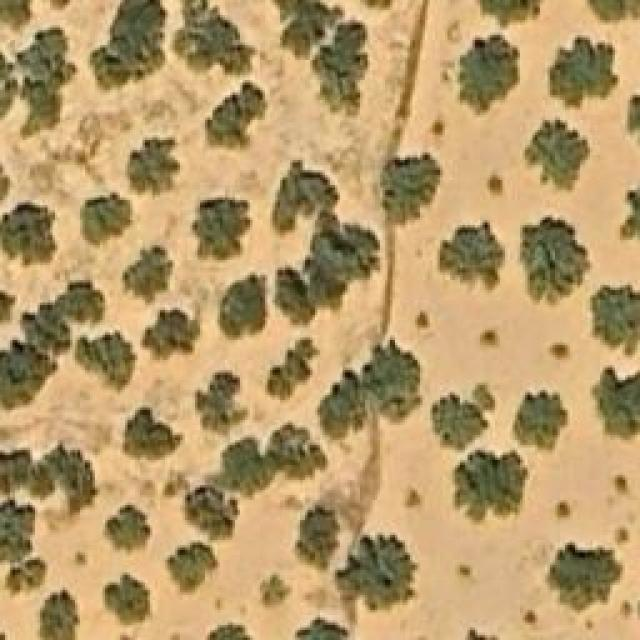Tree: (335, 533, 420, 623), (88, 0, 168, 95), (0, 25, 68, 125), (518, 215, 591, 308), (305, 213, 380, 298), (178, 0, 262, 75), (453, 450, 528, 528), (548, 35, 618, 110), (523, 118, 593, 193), (547, 545, 625, 610), (458, 35, 521, 115), (437, 223, 505, 296), (313, 23, 368, 108), (0, 500, 48, 595), (360, 340, 418, 418), (273, 160, 336, 228), (270, 0, 343, 58), (208, 80, 268, 148), (587, 282, 640, 357), (590, 365, 640, 443), (78, 328, 138, 391), (0, 203, 58, 268), (388, 155, 443, 223), (510, 390, 568, 453), (190, 198, 250, 258), (140, 307, 200, 365), (33, 445, 93, 503), (125, 135, 180, 198), (268, 338, 321, 401), (195, 373, 248, 436), (428, 395, 491, 448), (123, 408, 183, 463), (315, 375, 363, 440), (123, 245, 173, 305), (0, 347, 52, 404), (220, 275, 265, 338), (168, 543, 221, 596), (103, 573, 153, 628), (295, 508, 338, 571), (270, 268, 318, 323), (83, 195, 133, 245), (105, 505, 153, 555), (270, 425, 320, 473), (37, 587, 82, 640), (220, 445, 268, 493), (470, 0, 545, 30), (65, 277, 105, 324), (617, 180, 640, 260), (190, 490, 230, 533), (293, 618, 356, 638), (207, 622, 275, 640), (585, 0, 640, 22), (260, 575, 290, 608), (550, 498, 574, 526), (475, 328, 500, 351), (548, 340, 573, 360), (410, 310, 431, 333), (612, 473, 633, 496), (405, 488, 423, 513), (615, 528, 630, 553), (488, 173, 503, 196), (457, 565, 475, 583)
